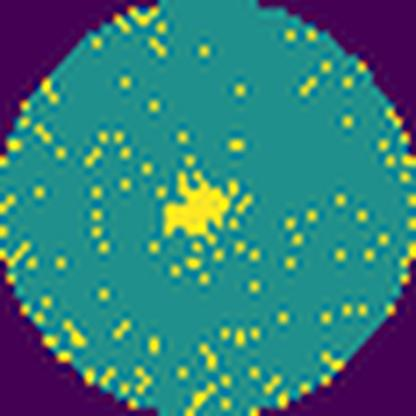Center: (160, 167, 232, 240)
